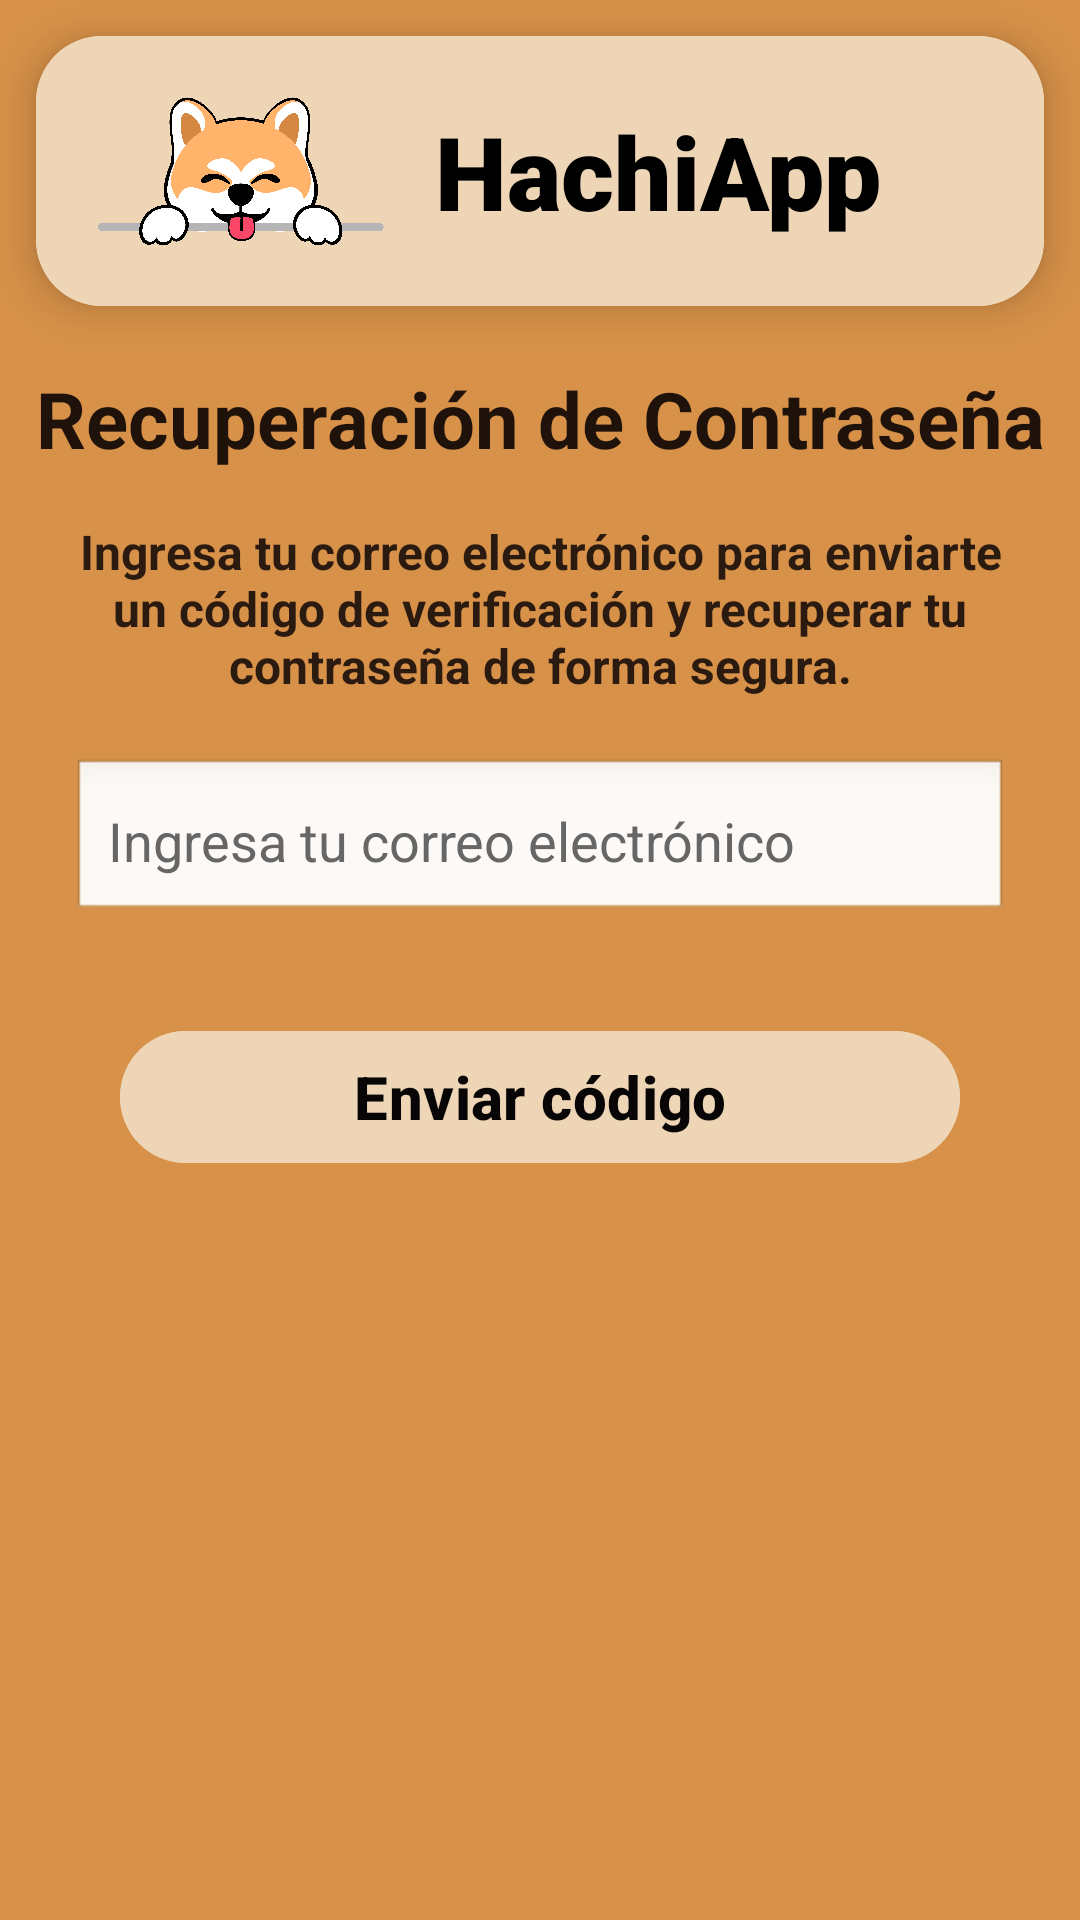

Icon click points for this 1080px×1920px phone screenshot, format [x,y]:
iconoprincipal: [241,171]
